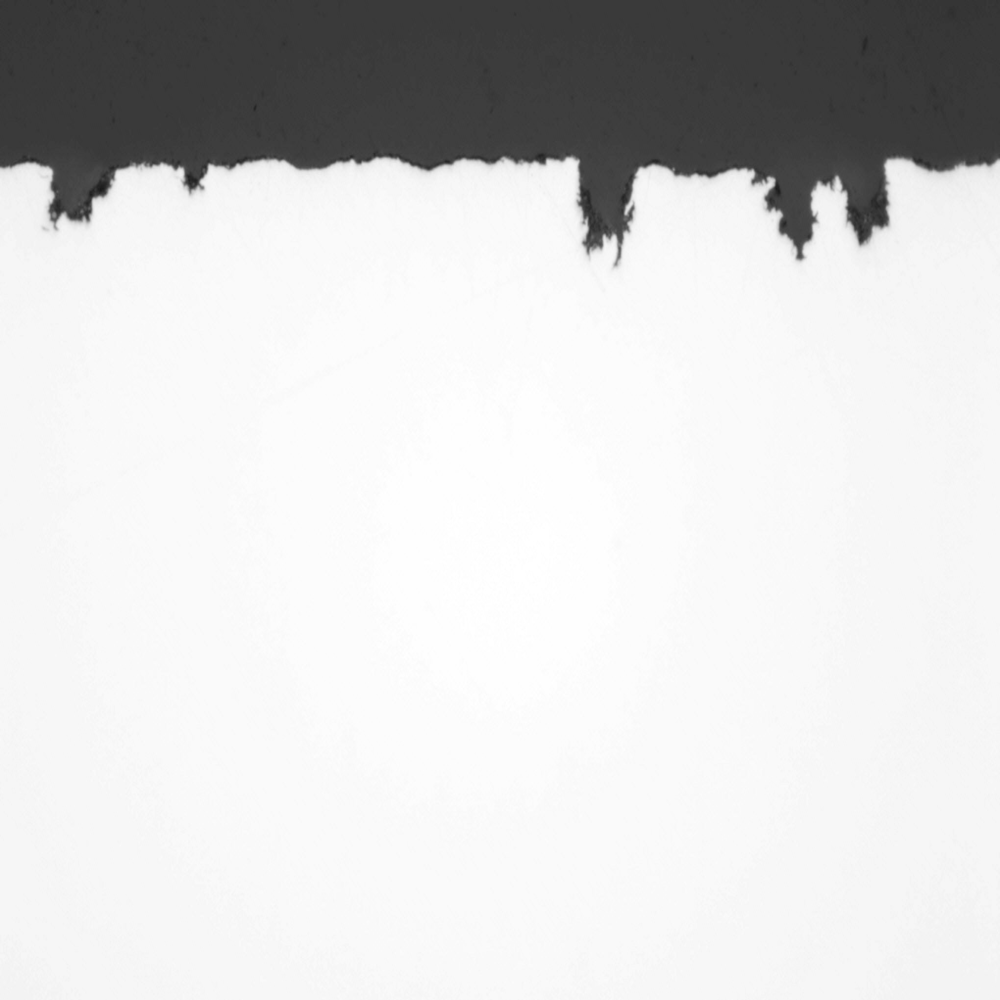crack: (555, 161, 649, 258), (34, 156, 128, 237), (756, 167, 832, 258), (838, 162, 901, 246), (166, 158, 209, 196)
